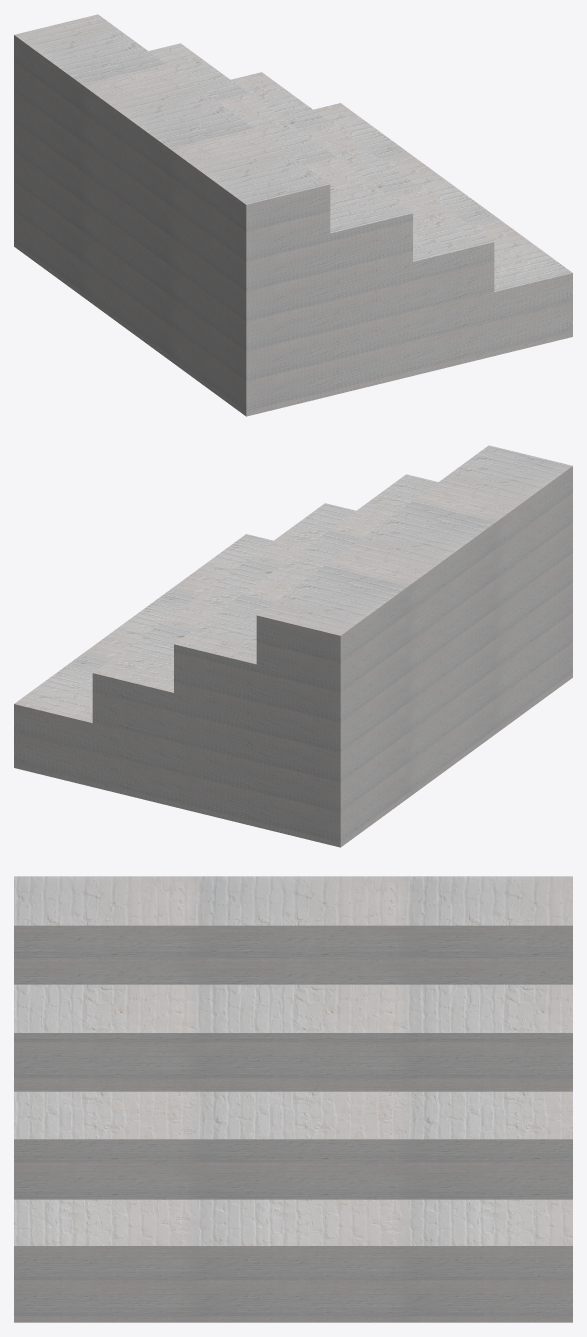
The model's file is simple_stairs.glb.
The picture shows the model from 3 angles, top to bottom: view 1: azimuth 30°, elevation 25°; view 2: azimuth 150°, elevation 25°; view 3: azimuth 270°, elevation 25°; orthographic projection. The views are drawn at different scales.
Parts seen in each view (by area): view 1: Cube_0; view 2: Cube_0; view 3: Cube_0.
Boxes of the visible parts, x1,y1,x2,y2 form: Cube_0: (14,14,572,416); Cube_0: (14,445,572,847); Cube_0: (14,876,572,1322).
Size of the model in its own units: 1.59 by 0.9856 by 1.96.
Materials: 1 (1 with a texture image).
